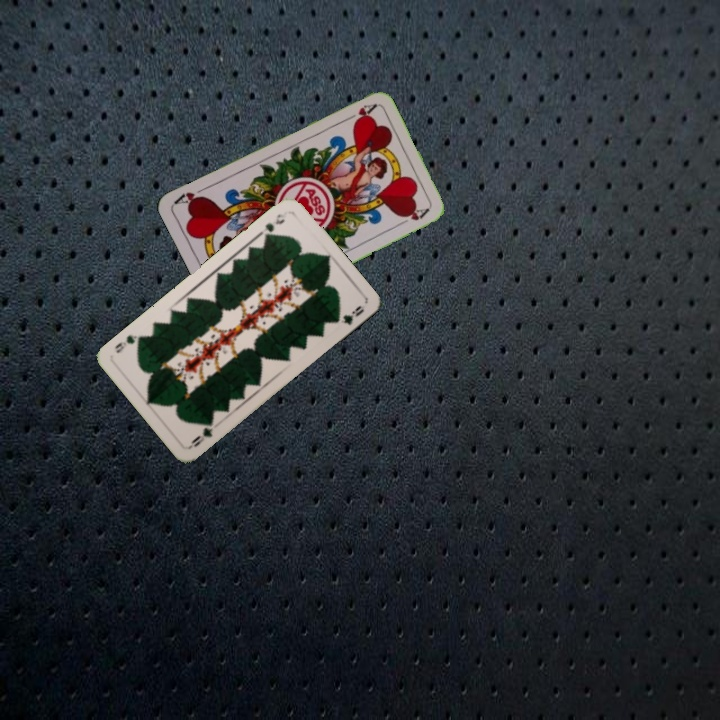G9: (255, 207, 290, 242), (186, 417, 216, 450)
HA: (340, 100, 378, 124)
